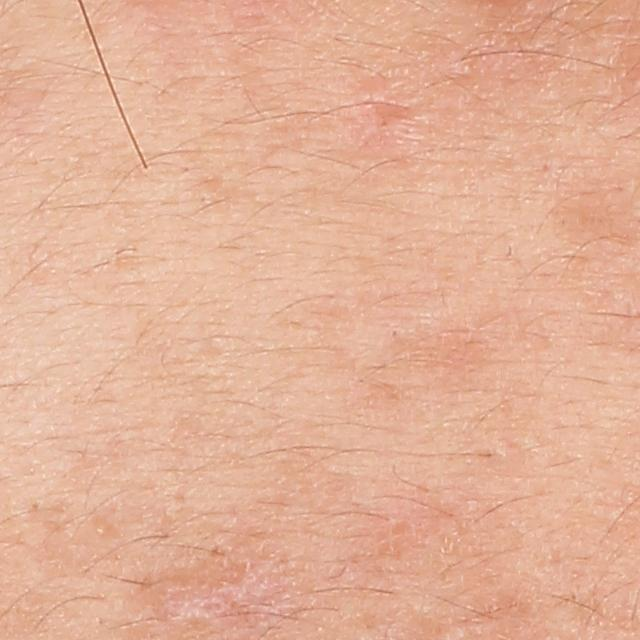comedo: (90, 520, 110, 539)
